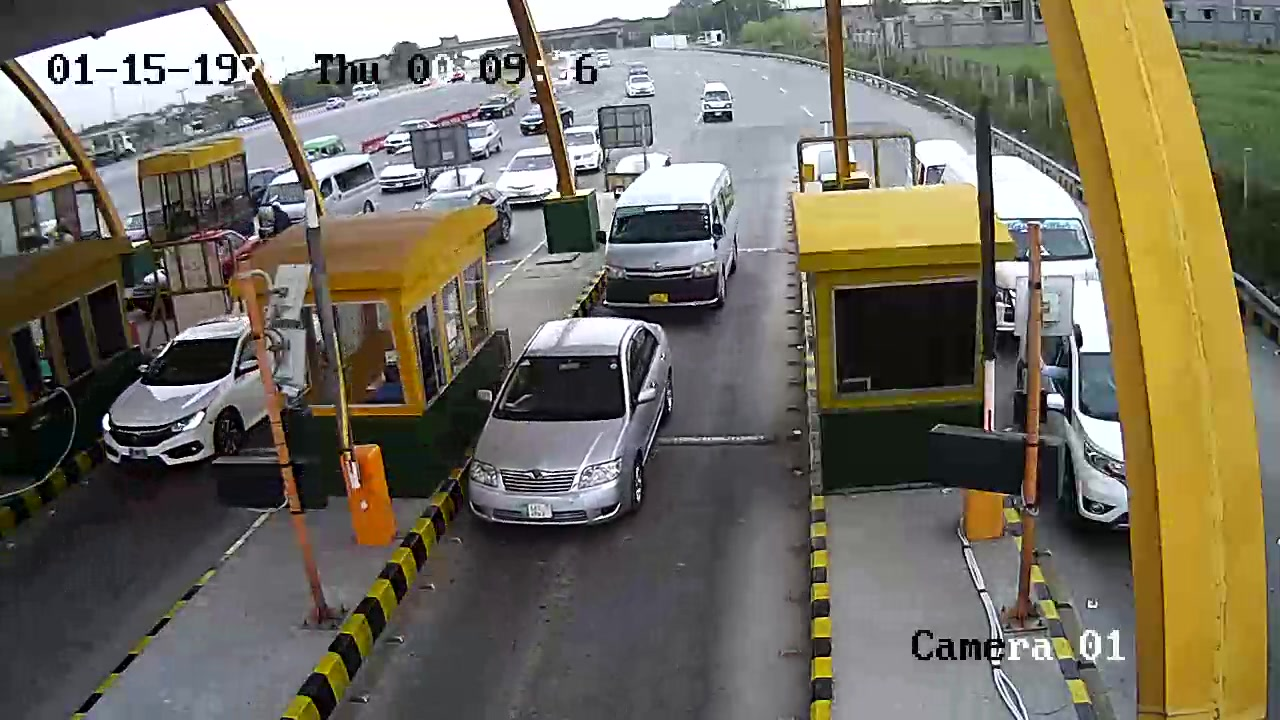F1: (461, 304, 672, 543)
F2: (582, 158, 748, 317)
